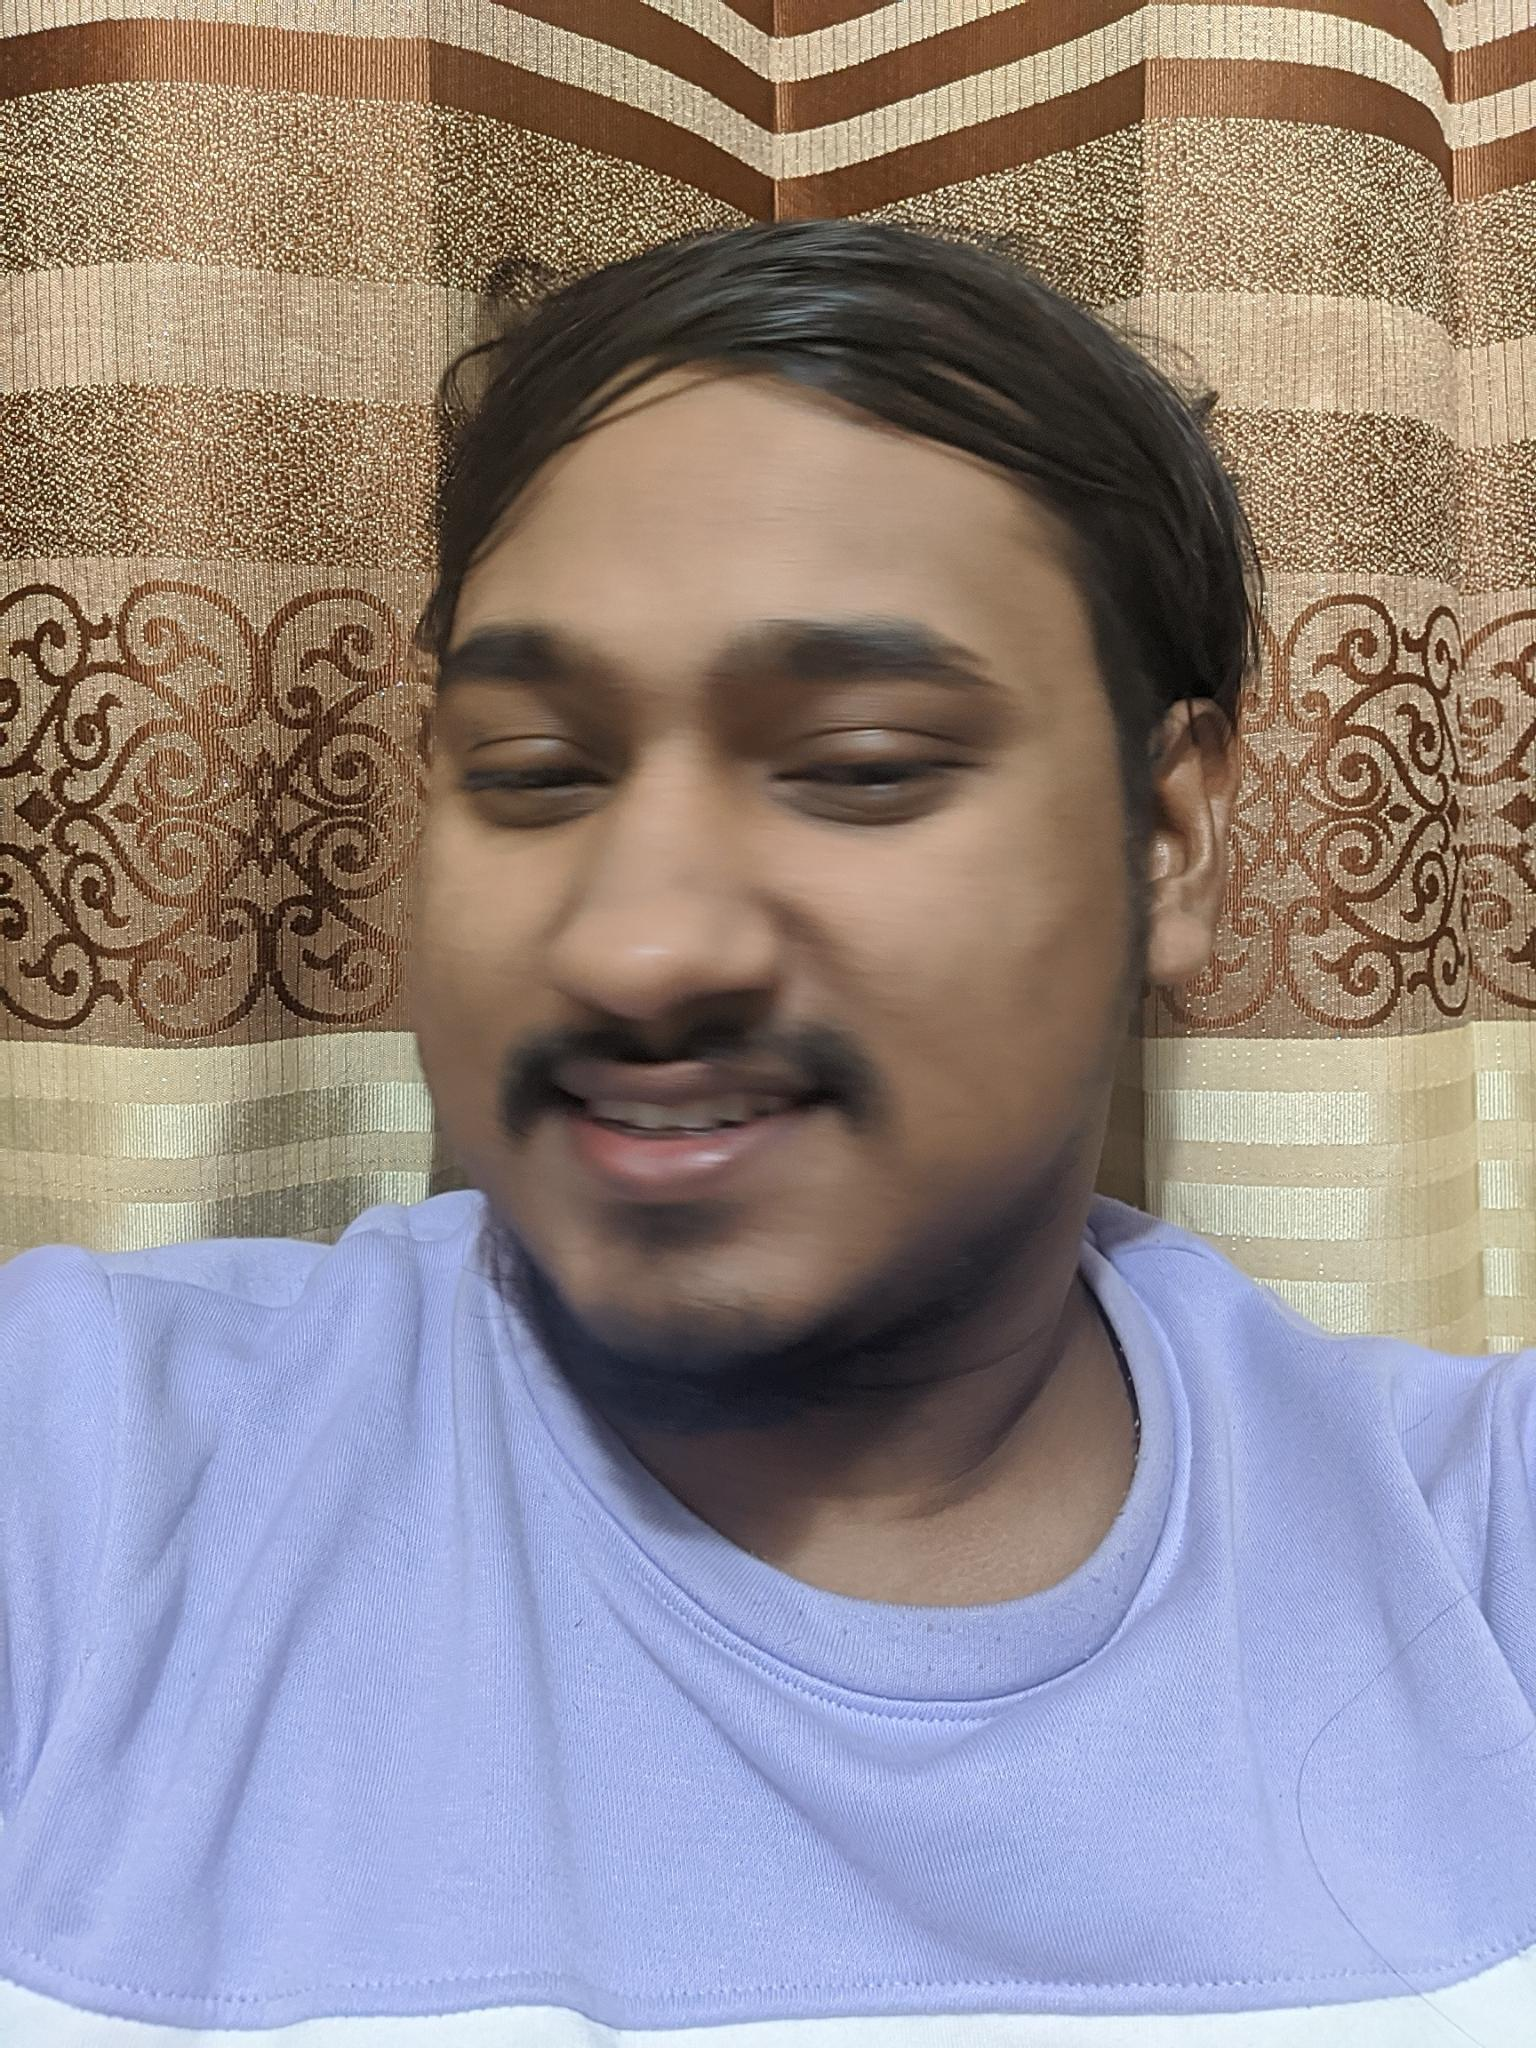Happy: (334, 497, 1126, 1361)
